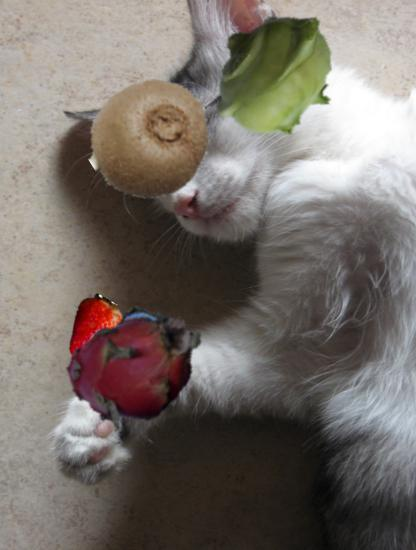Kiwi: (88, 78, 215, 205)
Kohlrabi: (207, 3, 348, 144)
Pitahaya: (66, 294, 210, 438)
Strawberry: (58, 296, 127, 365)
